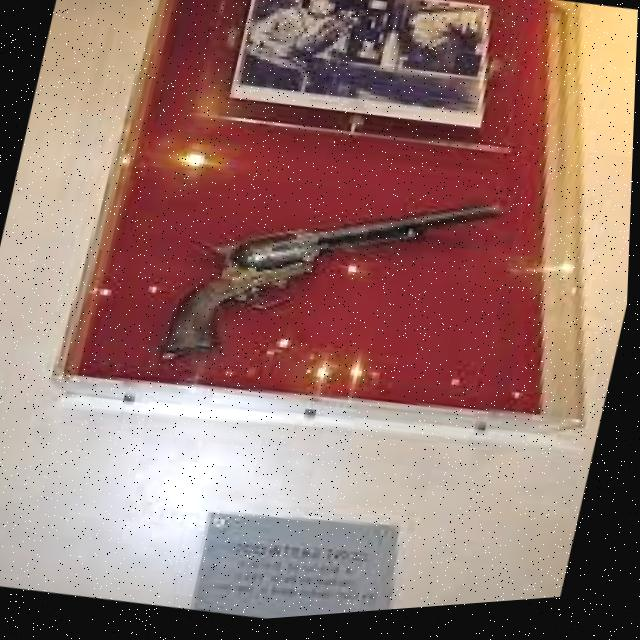pistol: (159, 149, 506, 414)
